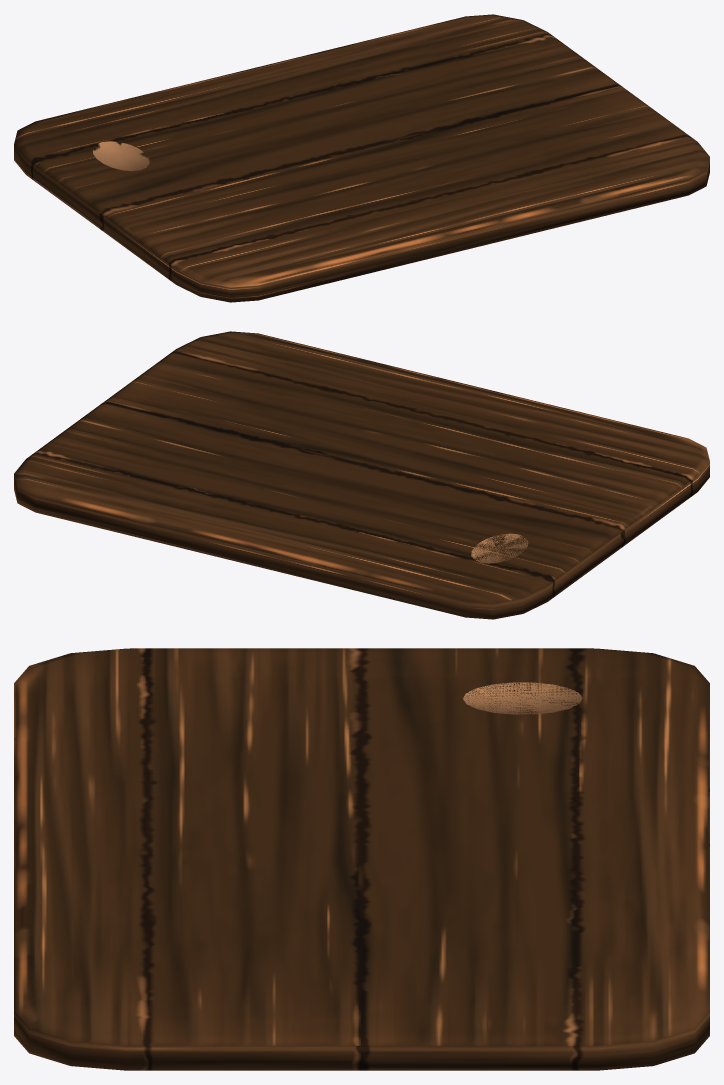
The model's file is tray test.fbx.
3 renders of one model, top to bottom at view 1: azimuth 30°, elevation 25°; view 2: azimuth 150°, elevation 25°; view 3: azimuth 270°, elevation 25°, orthographic. The views are drawn at different scales.
Parts seen in each view (by area): view 1: Object_2; view 2: Object_2; view 3: Object_2.
Part boxes in pixels (x1,y1,x2,y2): Object_2: (14,14,709,302); Object_2: (14,331,709,619); Object_2: (14,648,709,1070).
Size of the model in its own units: 375 by 12.9 by 278.
1 material, 1 textured.
